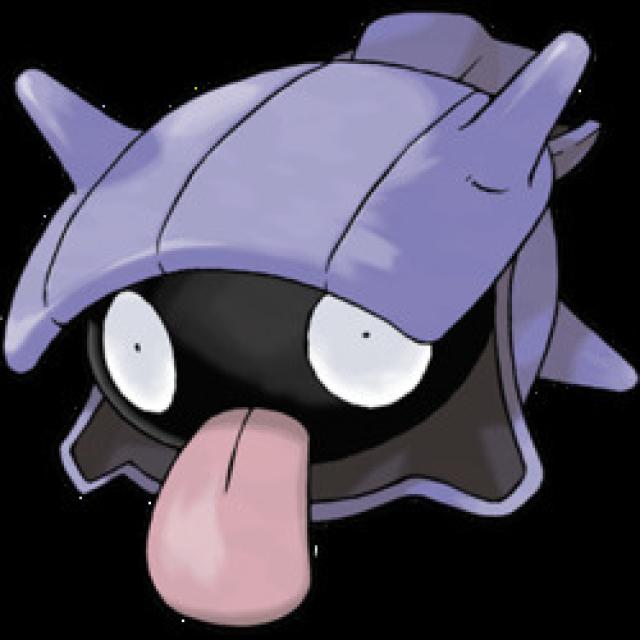Shellder: (0, 14, 559, 524)
